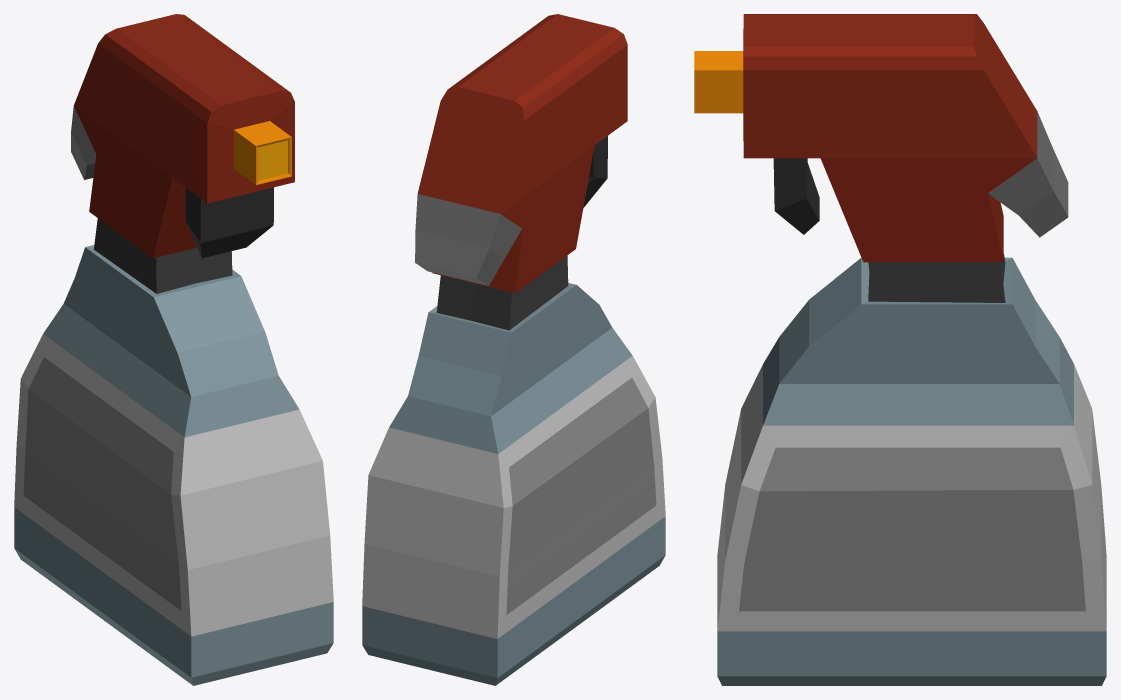
File: Cleaner Spray #2.fbx
The picture shows the model from 3 angles, left to right: view 1: azimuth 30°, elevation 25°; view 2: azimuth 150°, elevation 25°; view 3: azimuth 270°, elevation 25°; orthographic projection. The views are drawn at different scales.
Parts seen in each view (by area): view 1: Cleaner Spray #2; view 2: Cleaner Spray #2; view 3: Cleaner Spray #2.
Boxes of the visible parts, bbox=[...] form: Cleaner Spray #2: bbox=[14, 14, 333, 685]; Cleaner Spray #2: bbox=[362, 14, 665, 685]; Cleaner Spray #2: bbox=[694, 14, 1106, 685].
Size of the model in its own units: 10.44 by 39.3 by 23.5.
1 material, 1 textured.
